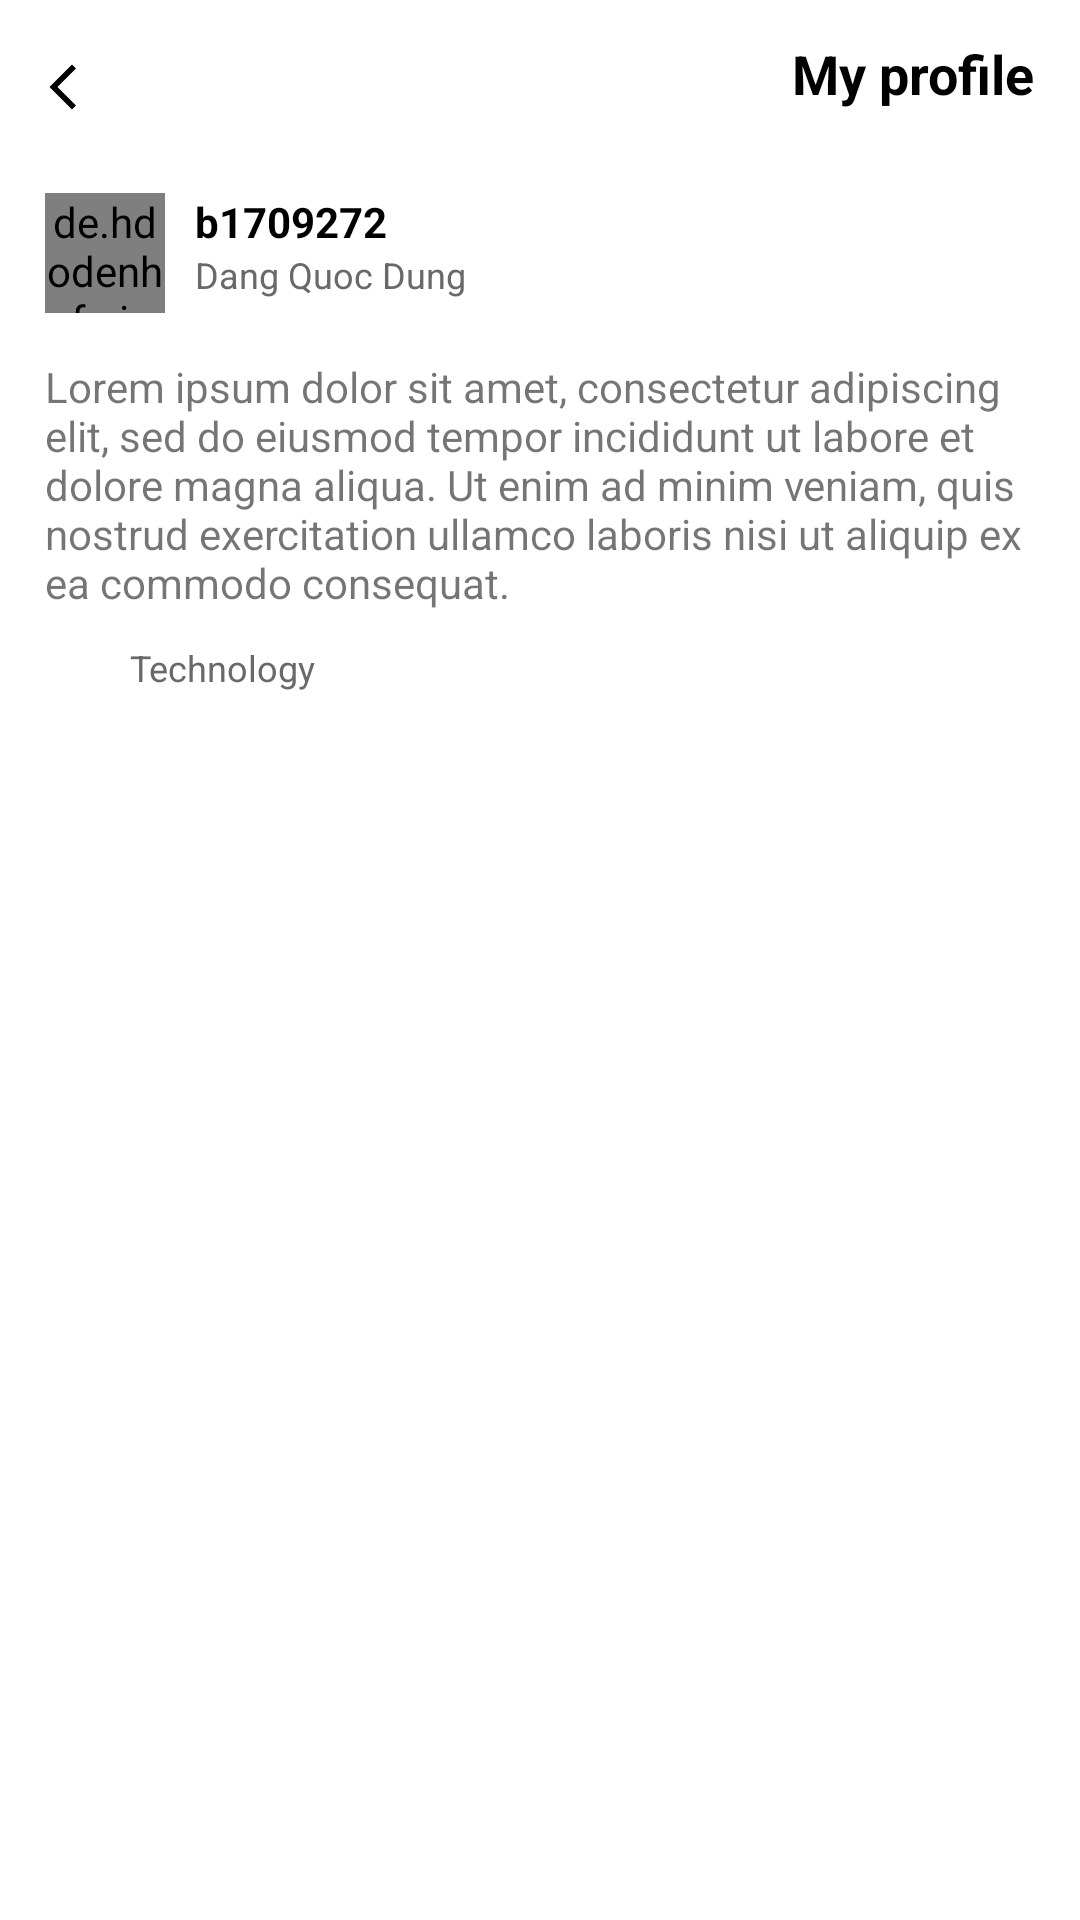

Locate icon controls on the screen. Image size 1080x1920, boxes as (x1, y1, x2, y2).
arrow back: (49, 64, 76, 110)
